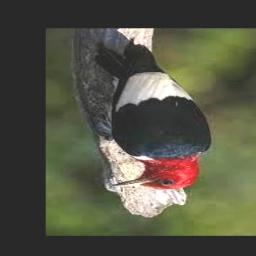Woodpecker: (95, 40, 215, 190)
